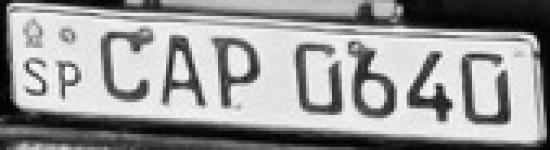0: (289, 35, 348, 122), (458, 46, 516, 133)
4: (402, 46, 458, 130)
6: (347, 44, 403, 126)
A: (155, 30, 209, 114)
C: (94, 25, 154, 108)
P: (209, 30, 265, 116), (52, 53, 87, 104)
S: (17, 55, 55, 102)
